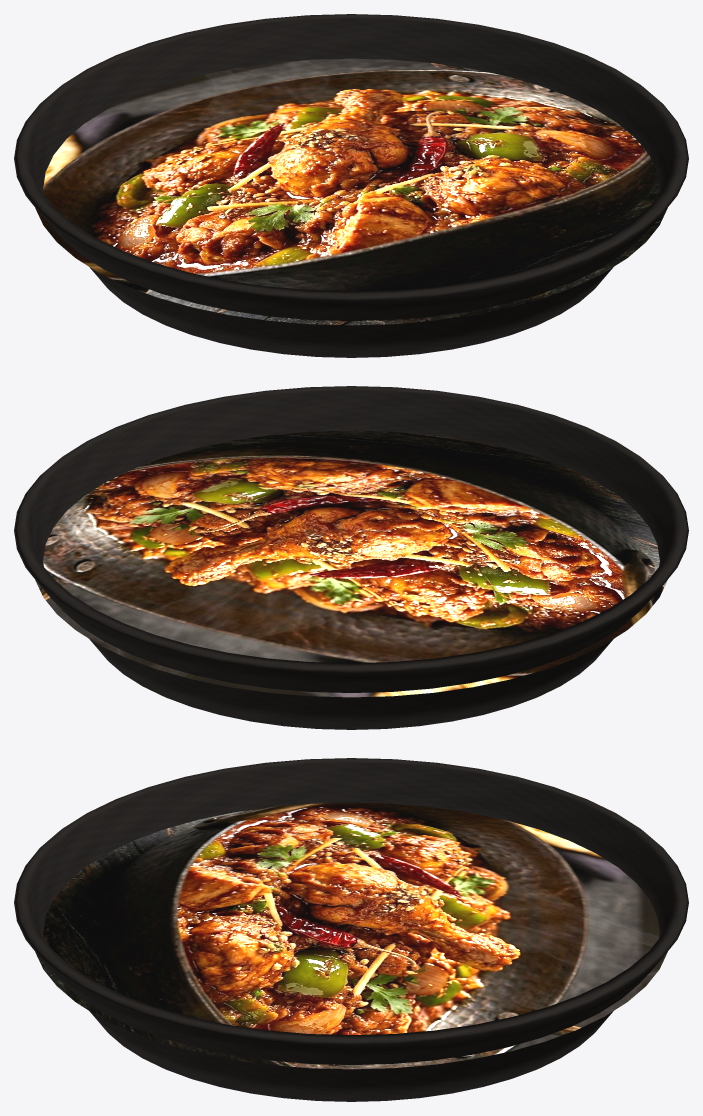
The model's file is kadai-chicken.glb.
The picture shows the model from 3 angles, top to bottom: view 1: azimuth 30°, elevation 25°; view 2: azimuth 150°, elevation 25°; view 3: azimuth 270°, elevation 25°; orthographic projection.
Visible parts, largest first — view 1: FoodMound, StonewareVessel; view 2: FoodMound, StonewareVessel; view 3: FoodMound, StonewareVessel.
Boxes of the visible parts, left/top/right/bottom form: FoodMound: left=35, top=58, right=667, bottom=325; StonewareVessel: left=14, top=14, right=688, bottom=357; FoodMound: left=35, top=430, right=667, bottom=697; StonewareVessel: left=14, top=386, right=688, bottom=729; FoodMound: left=35, top=802, right=667, bottom=1069; StonewareVessel: left=14, top=758, right=688, bottom=1101.
Size of the model in its own units: 0.24 by 0.0365 by 0.24.
2 materials, 2 textured.
